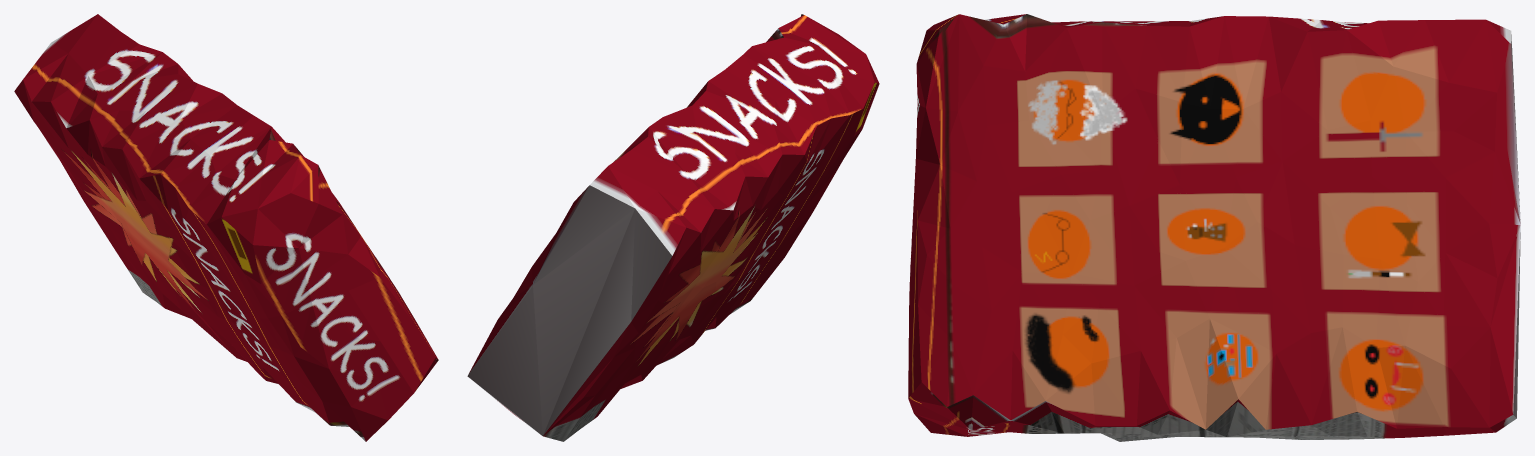
File: snacks.dae
The picture shows the model from 3 angles, left to right: view 1: azimuth 30°, elevation 25°; view 2: azimuth 150°, elevation 25°; view 3: azimuth 270°, elevation 25°; orthographic projection. The views are drawn at different scales.
Visible parts, largest first — view 1: node; view 2: node; view 3: node.
Boxes of the visible parts, bbox=[...] form: node: bbox=[14, 14, 438, 441]; node: bbox=[467, 14, 879, 441]; node: bbox=[908, 14, 1520, 441].
Size of the model in its own units: 0.1253 by 0.1644 by 0.233.
1 material, 1 textured.
